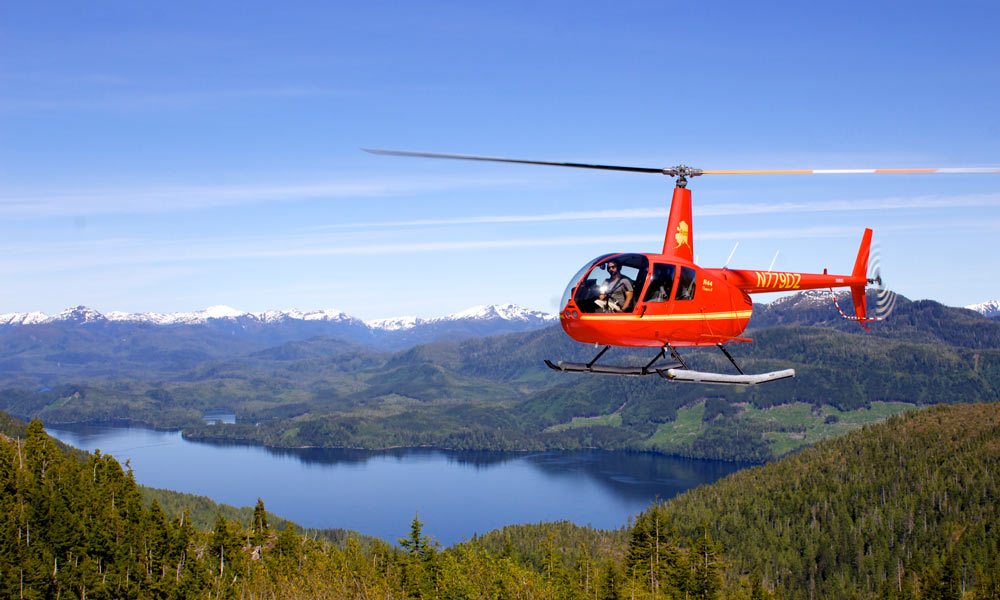Helicopter: (506, 166, 936, 410)
